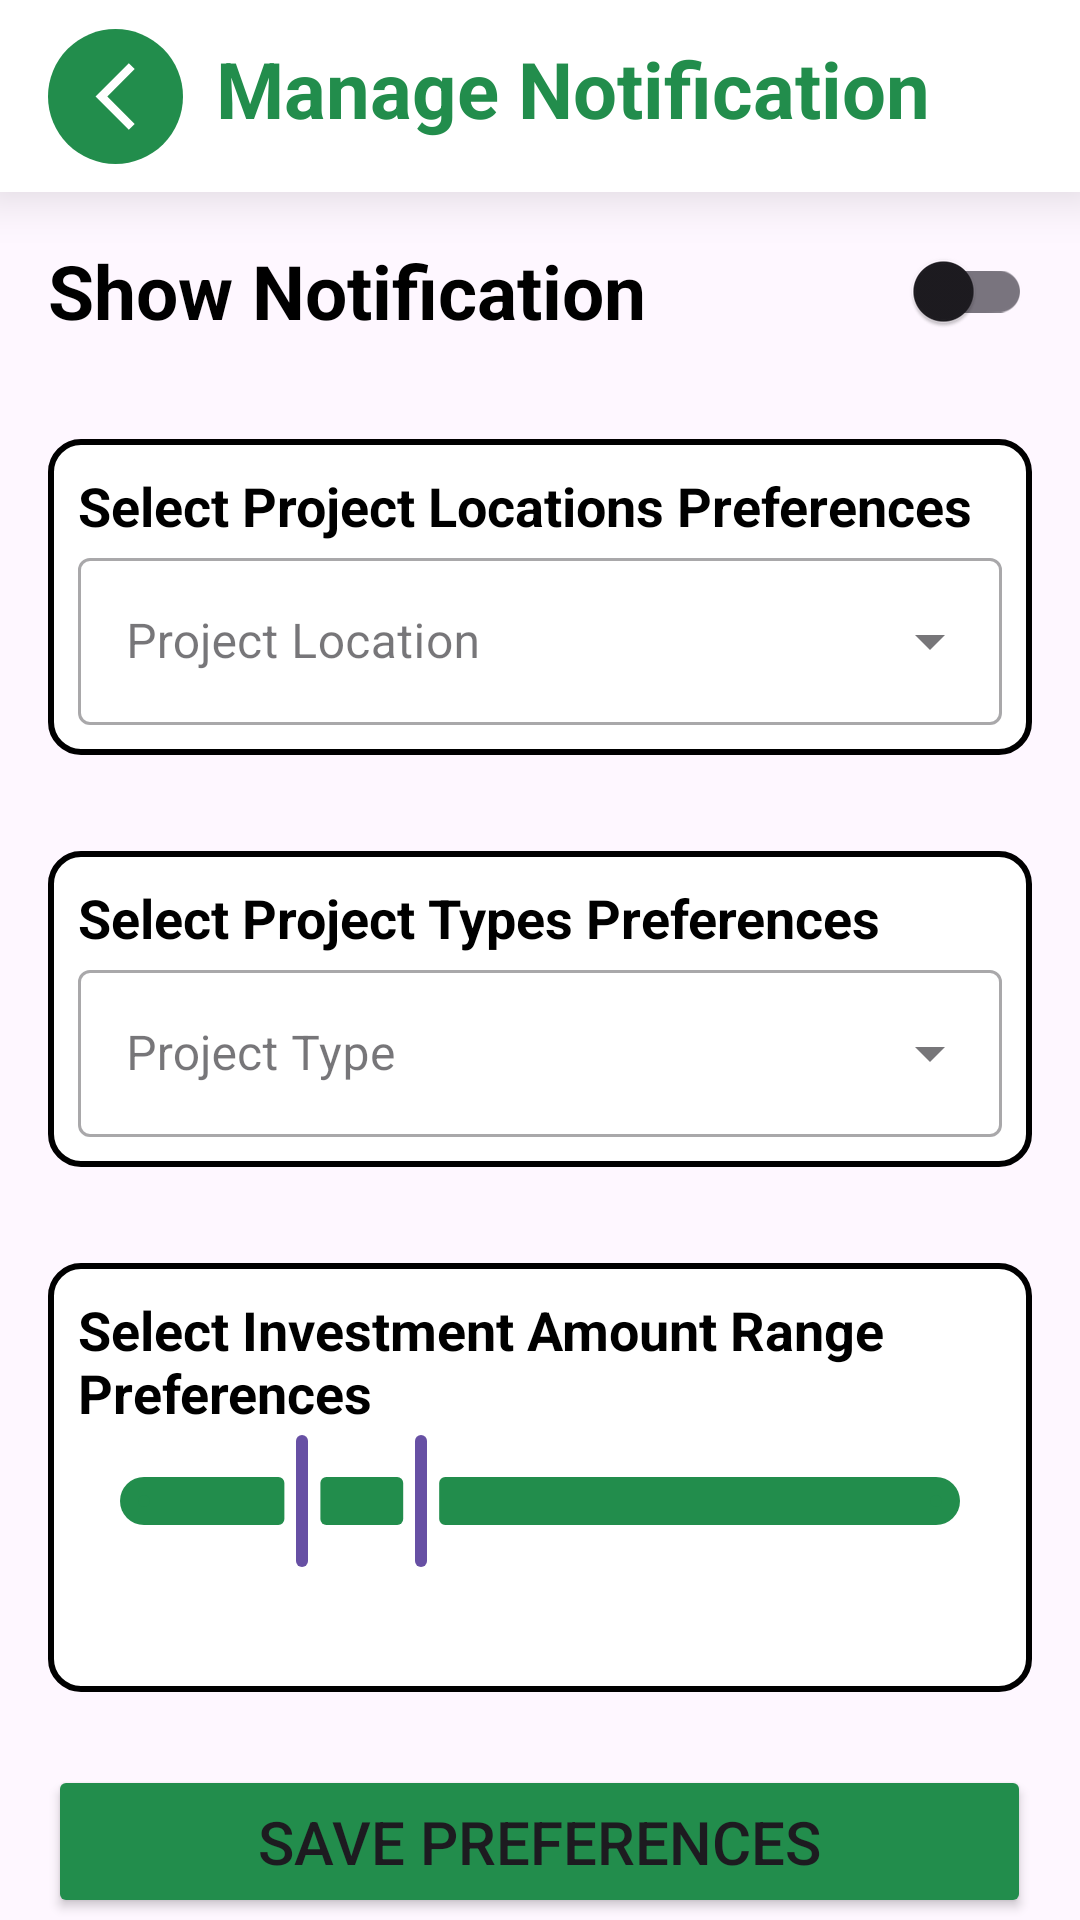

Where to tap for icons on this 1080 × 1920 app screen, as [x,y]:
Back: [115,96]
